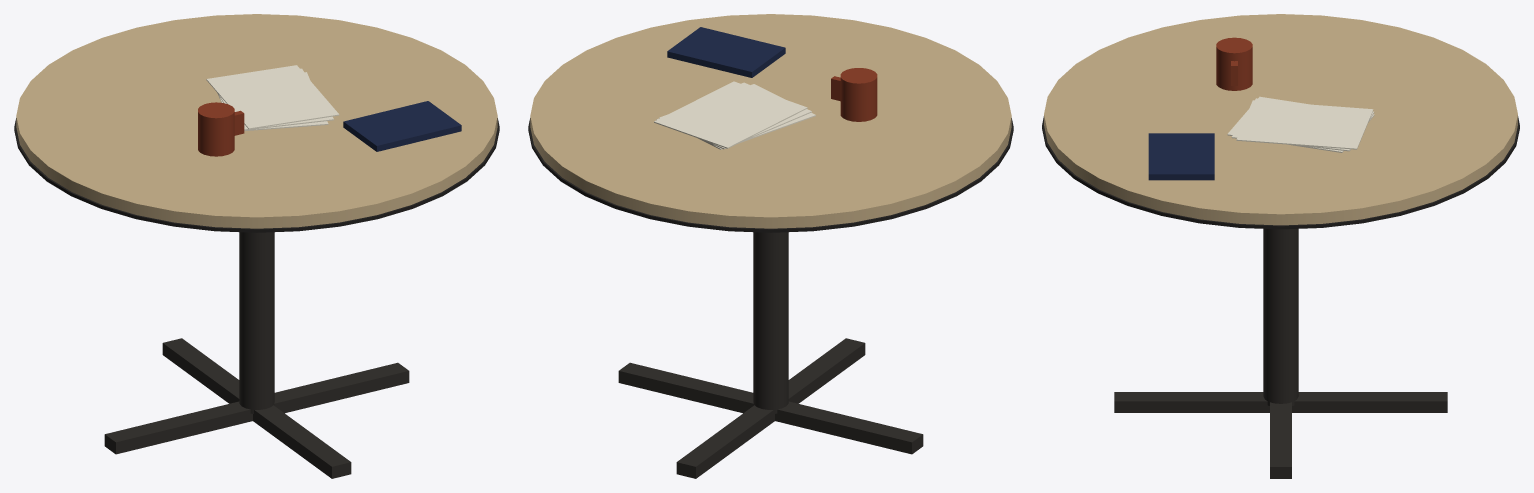
File: SM_80s_RoundTable.glb
3 views of the same model, side by side, from view 1: azimuth 30°, elevation 25°; view 2: azimuth 150°, elevation 25°; view 3: azimuth 270°, elevation 25° (orthographic).
Visible parts, largest first — view 1: SM_80s_RoundTable; view 2: SM_80s_RoundTable; view 3: SM_80s_RoundTable.
Boxes of the visible parts, x1,y1,x2,y2 form: SM_80s_RoundTable: [14, 14, 499, 478]; SM_80s_RoundTable: [528, 14, 1013, 478]; SM_80s_RoundTable: [1042, 14, 1519, 478].
Bounding box in the file's own units: 1.44 × 1.1 × 1.44.
